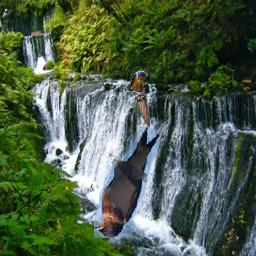Swallow: (95, 128, 160, 239), (126, 69, 150, 127)
